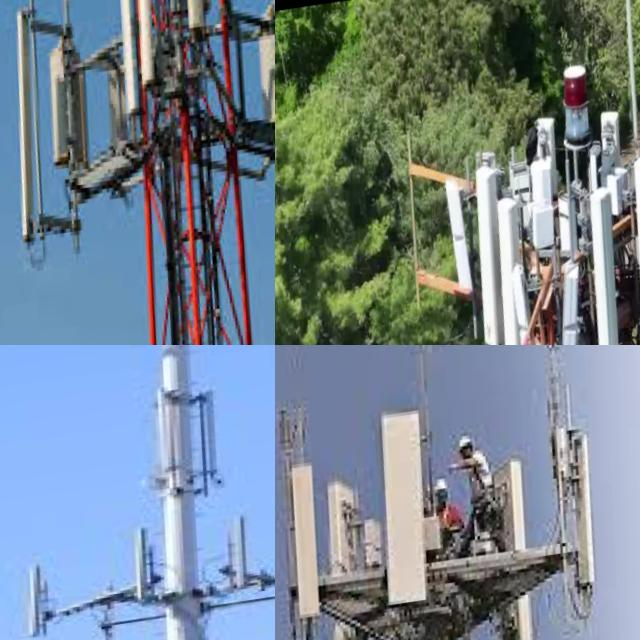GSM Antenna: (363, 400, 458, 616), (0, 1, 76, 244), (479, 456, 568, 640), (312, 473, 395, 640), (458, 158, 529, 345), (279, 460, 351, 620), (558, 423, 626, 592), (484, 190, 555, 345), (575, 181, 640, 345), (40, 27, 101, 197), (103, 0, 190, 93), (103, 0, 165, 123), (440, 172, 494, 294), (552, 267, 607, 345), (620, 152, 640, 345), (123, 526, 170, 603), (22, 561, 69, 635), (232, 509, 272, 591), (526, 200, 570, 255)
